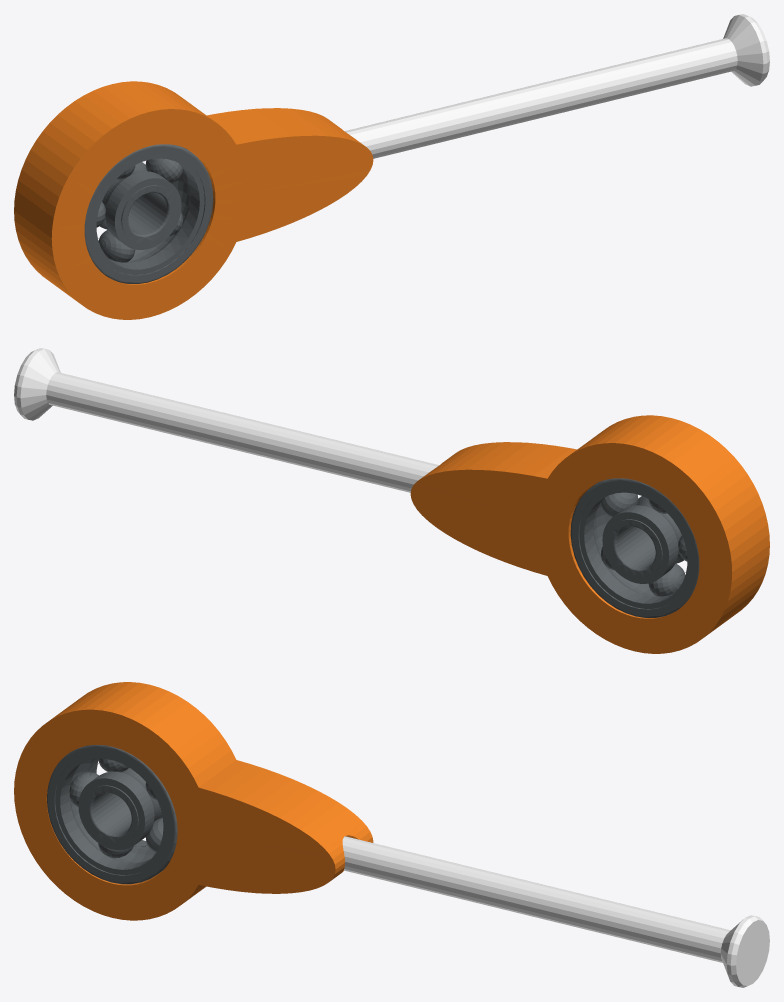
Rendered from tinker.obj.
3 renders of one model, top to bottom at view 1: azimuth 30°, elevation 25°; view 2: azimuth 150°, elevation 25°; view 3: azimuth 330°, elevation 25°, orthographic.
Parts seen in each view (by area): view 1: group_0_16089887, group_0_16448250, group_0_6383466; view 2: group_0_16089887, group_0_16448250, group_0_6383466; view 3: group_0_16089887, group_0_16448250, group_0_6383466.
Part boxes in pixels (x1=…): group_0_16089887: x1=14, y1=81, x2=373, y2=319; group_0_16448250: x1=345, y1=14, x2=769, y2=158; group_0_6383466: x1=84, y1=144, x2=213, y2=283; group_0_16089887: x1=410, y1=415, x2=769, y2=653; group_0_16448250: x1=14, y1=348, x2=438, y2=492; group_0_6383466: x1=570, y1=478, x2=699, y2=617; group_0_16089887: x1=14, y1=682, x2=373, y2=920; group_0_16448250: x1=342, y1=836, x2=769, y2=987; group_0_6383466: x1=47, y1=745, x2=177, y2=884.
Bounding box in the file's own units: 44 × 12 × 4.
